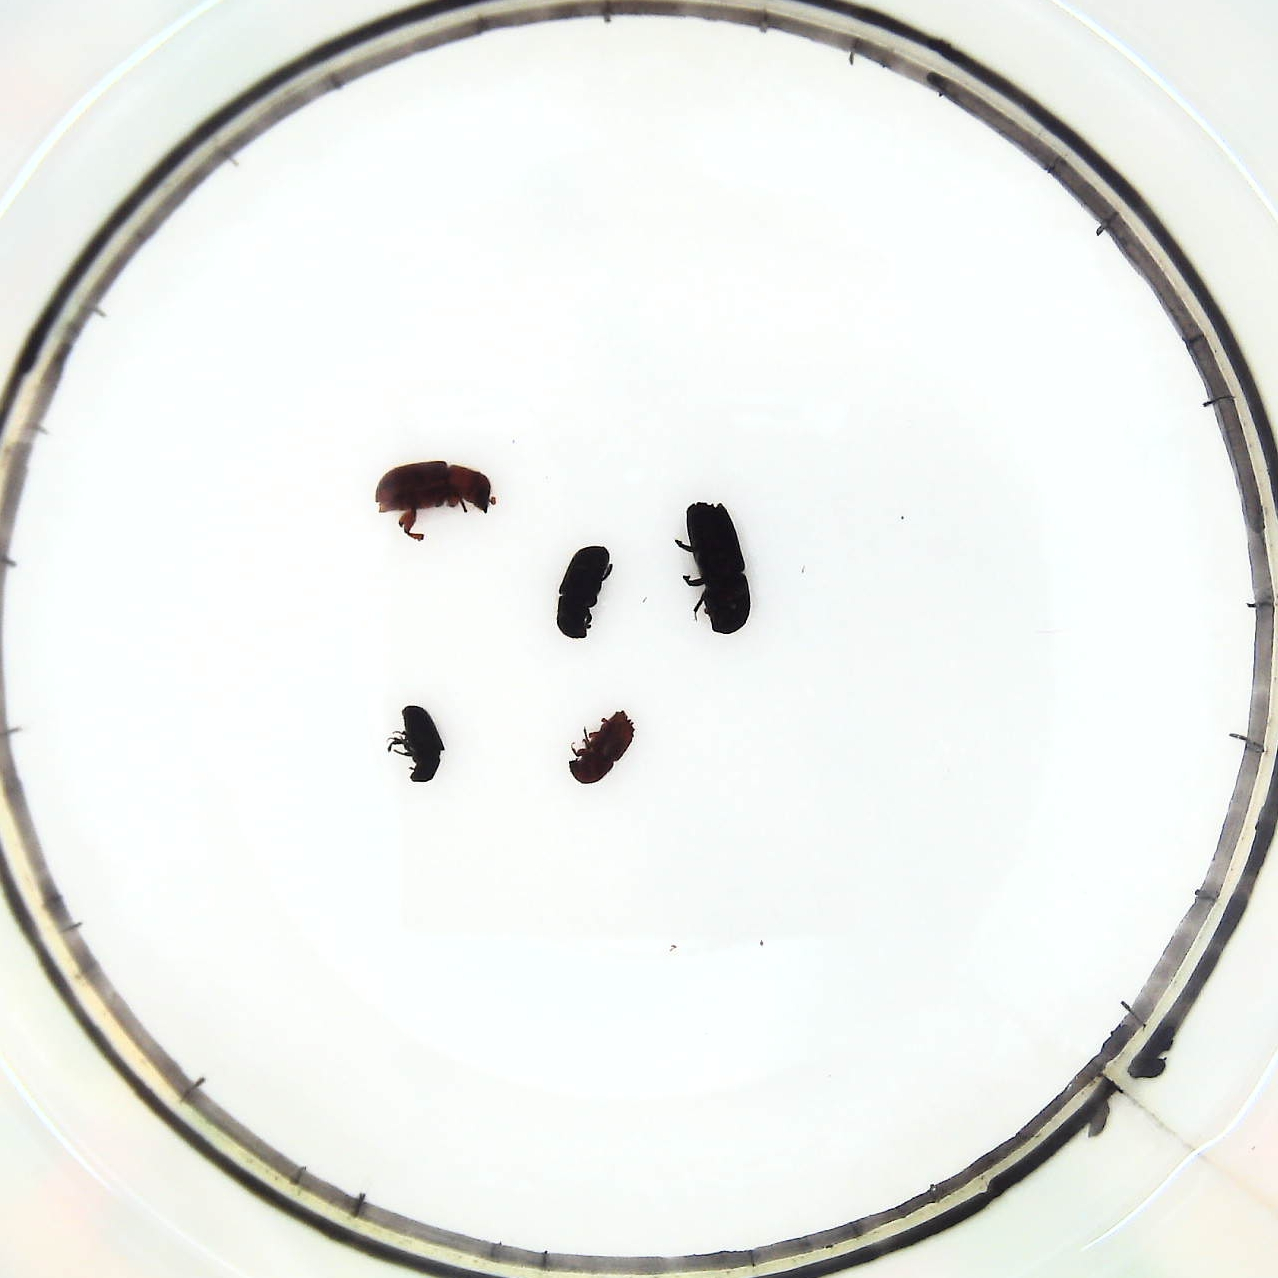Boerner: (676, 497, 761, 641)
Leconte: (375, 456, 499, 543)
armandi: (554, 540, 620, 646)
coleoptera: (386, 698, 452, 786)
linnaeus: (564, 705, 643, 786)
